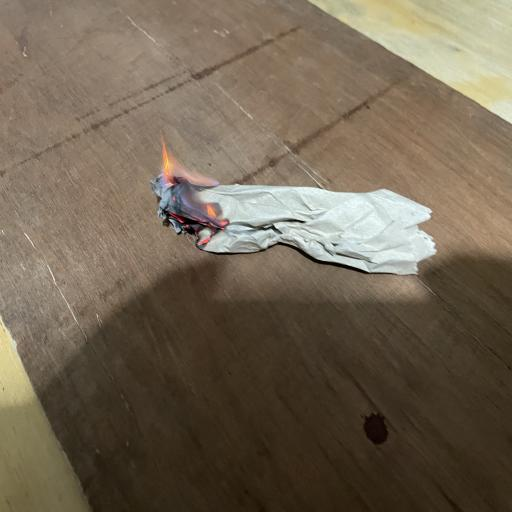fire: (129, 114, 226, 256)
